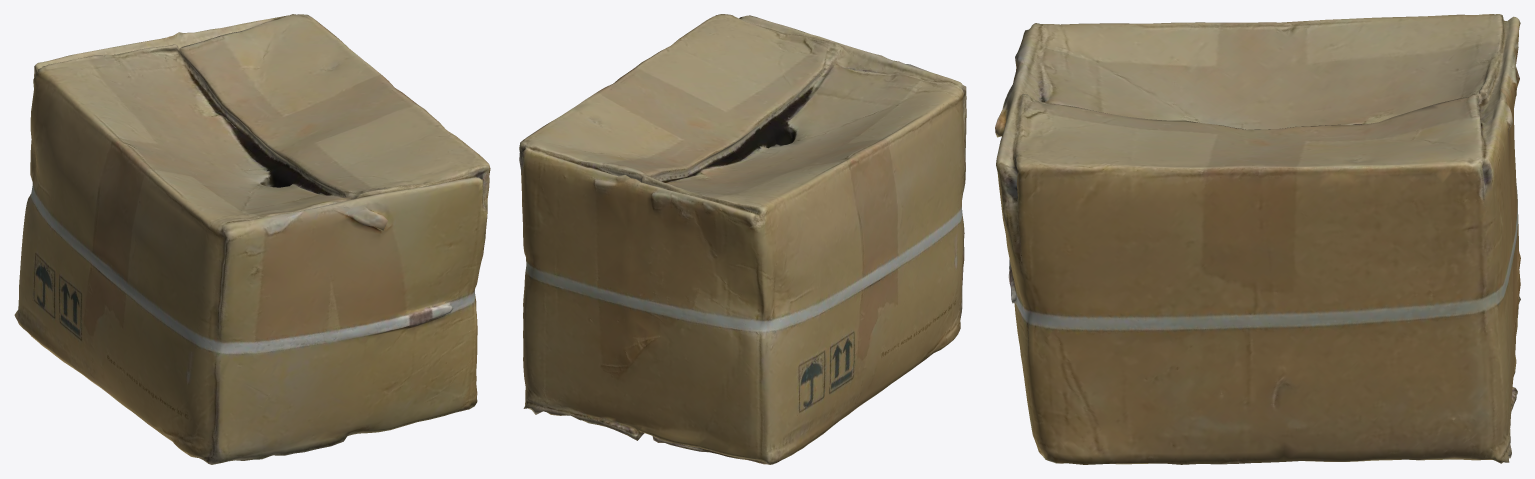
The model's file is cardboard_box_01.glb.
3 views of the same model, side by side, from view 1: azimuth 30°, elevation 25°; view 2: azimuth 150°, elevation 25°; view 3: azimuth 270°, elevation 25° (orthographic). The views are drawn at different scales.
Parts seen in each view (by area): view 1: cardboard_box_01; view 2: cardboard_box_01; view 3: cardboard_box_01.
Boxes of the visible parts, x1,y1,x2,y2 form: cardboard_box_01: (14, 14, 490, 464); cardboard_box_01: (519, 14, 966, 464); cardboard_box_01: (995, 14, 1520, 464).
Size of the model in its own units: 0.387 by 0.3418 by 0.5159.
1 material, 1 textured.
